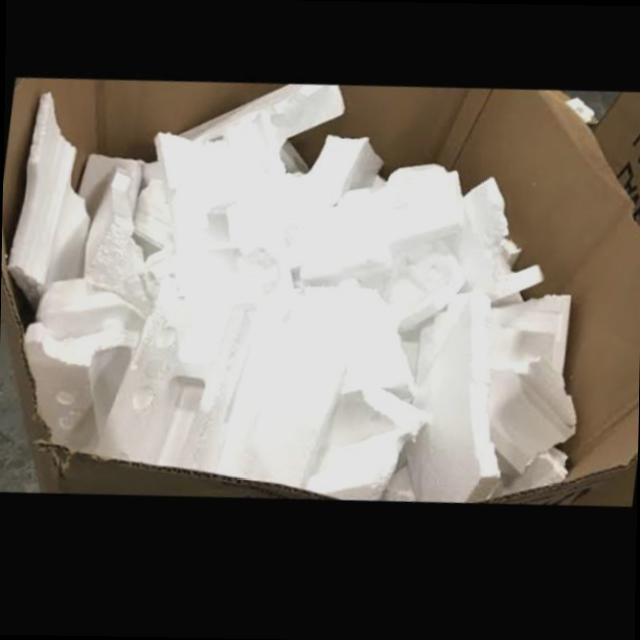carton: (284, 89, 640, 514), (0, 76, 339, 505), (591, 100, 640, 239)
xop: (100, 278, 253, 476), (217, 322, 349, 496), (287, 140, 461, 272), (471, 304, 578, 511), (154, 115, 298, 255), (408, 299, 500, 510), (7, 92, 91, 320), (308, 370, 428, 507), (22, 321, 135, 455), (288, 291, 414, 410), (298, 248, 459, 341), (179, 202, 293, 308), (457, 185, 542, 314), (177, 87, 343, 153), (84, 167, 153, 320), (36, 279, 145, 338)
